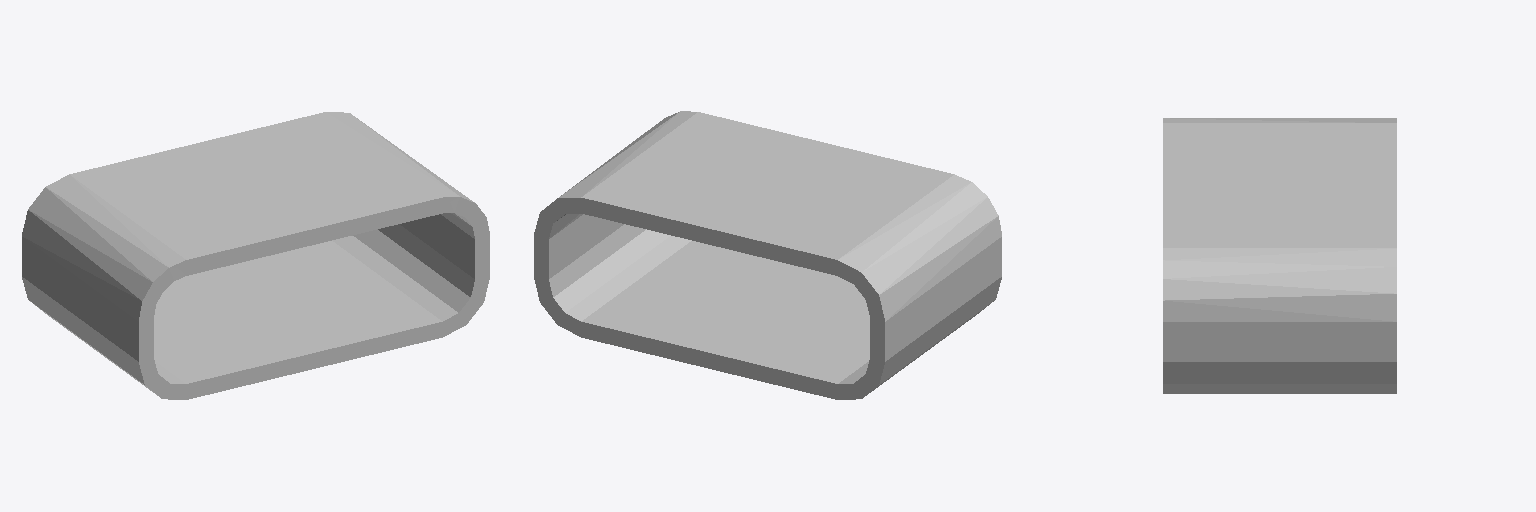
File: ChargerPort.obj
3 renders of one model, left to right at view 1: azimuth 30°, elevation 25°; view 2: azimuth 150°, elevation 25°; view 3: azimuth 270°, elevation 25°, orthographic.
Visible parts, largest first — view 1: ChargerPort; view 2: ChargerPort; view 3: ChargerPort.
Boxes of the visible parts, x1=… form: ChargerPort: x1=22, y1=112, x2=489, y2=399; ChargerPort: x1=534, y1=111, x2=1001, y2=399; ChargerPort: x1=1163, y1=118, x2=1396, y2=393.
Bounding box in the file's own units: 9.2 × 3.5 × 5.3.